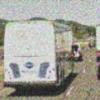buses: (2, 19, 74, 94)
